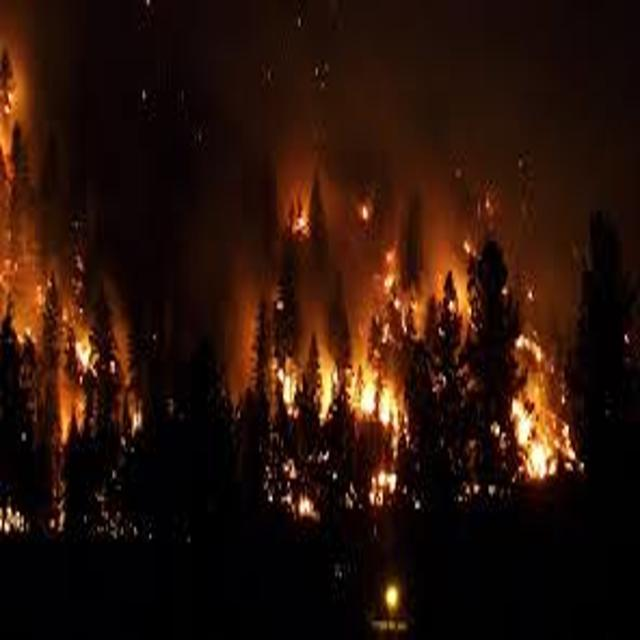Fire: (44, 289, 160, 549), (370, 236, 556, 370), (264, 452, 412, 528), (272, 360, 422, 433), (502, 381, 592, 498), (0, 58, 30, 358), (272, 171, 378, 240)
Smoke: (236, 9, 580, 168)
